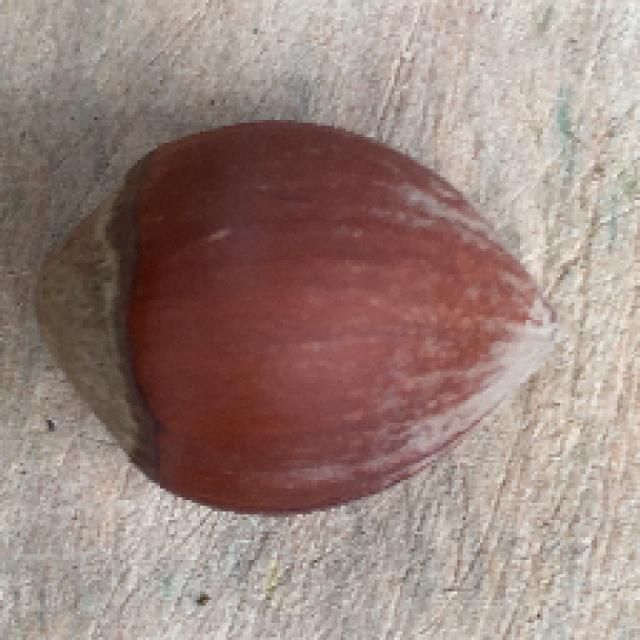qualityHazelnut: (31, 108, 561, 529)
